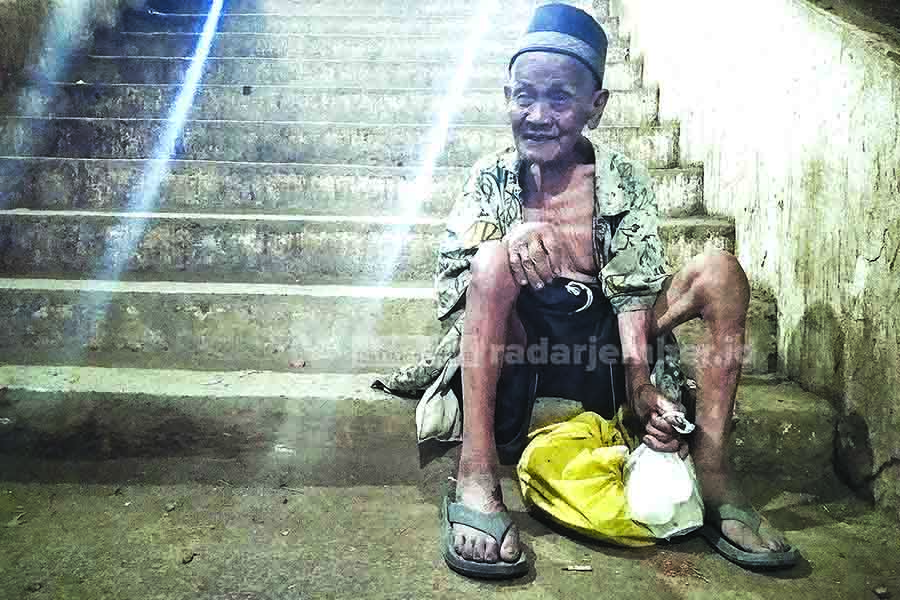gelandangan: (400, 1, 800, 580)
